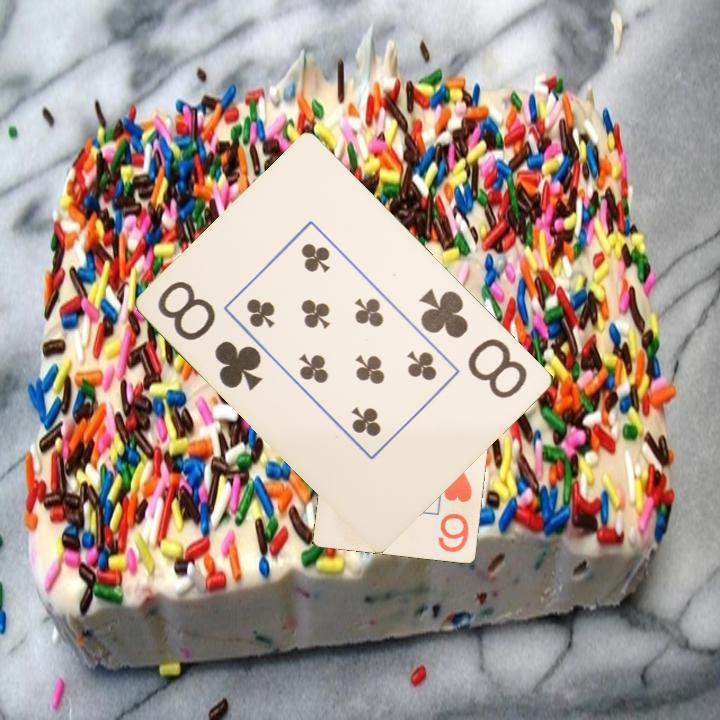6h: (435, 462, 475, 556)
8c: (416, 284, 531, 402), (154, 277, 267, 394)
